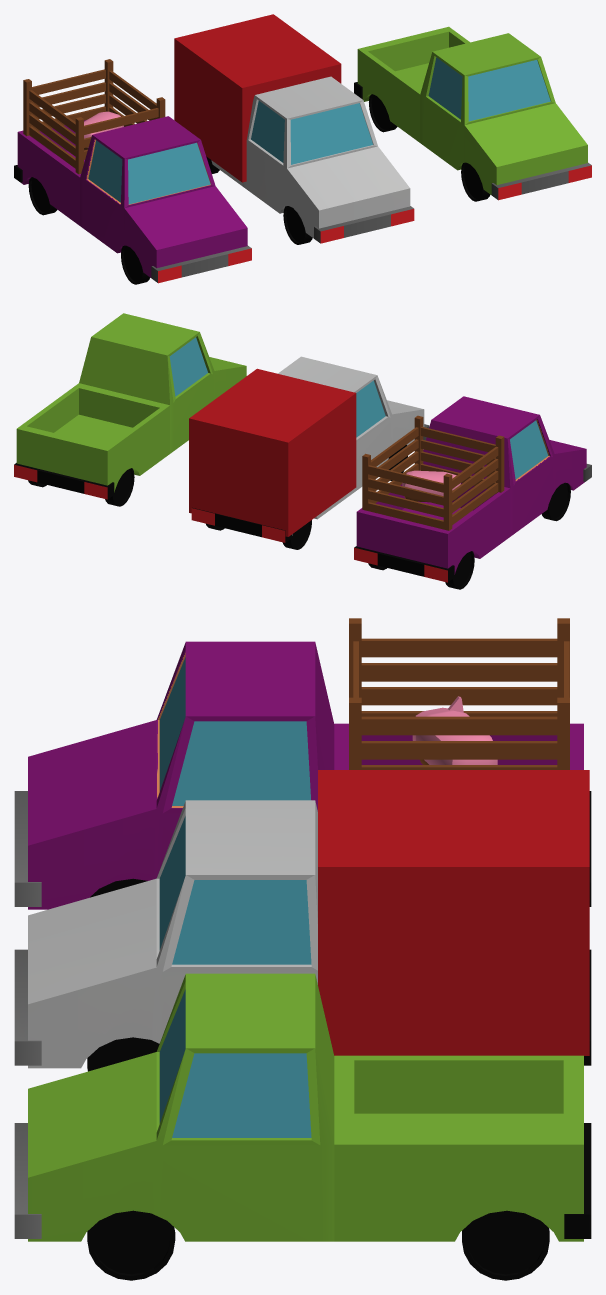
Rendered from FBX_Camionetas2.fbx.
3 views of the same model, one above another, from view 1: azimuth 30°, elevation 25°; view 2: azimuth 150°, elevation 25°; view 3: azimuth 270°, elevation 25° (orthographic). The views are drawn at different scales.
Parts seen in each view (by area): view 1: MSH_Camioneta6, MSH_Camioneta5, MSH_Camioneta4; view 2: MSH_Camioneta6, MSH_Camioneta5, MSH_Camioneta4; view 3: MSH_Camioneta6, MSH_Camioneta4, MSH_Camioneta5.
Boxes of the visible parts, x1,y1,x2,y2 form: MSH_Camioneta6: (174,14,414,244); MSH_Camioneta5: (14,59,251,284); MSH_Camioneta4: (354,26,591,201); MSH_Camioneta6: (189,356,429,549); MSH_Camioneta5: (354,396,591,589); MSH_Camioneta4: (14,313,246,506); MSH_Camioneta6: (14,770,591,1071); MSH_Camioneta4: (14,973,591,1280); MSH_Camioneta5: (14,618,591,909).
Bounding box in the file's own units: 6.7 × 1.81 × 3.85.
